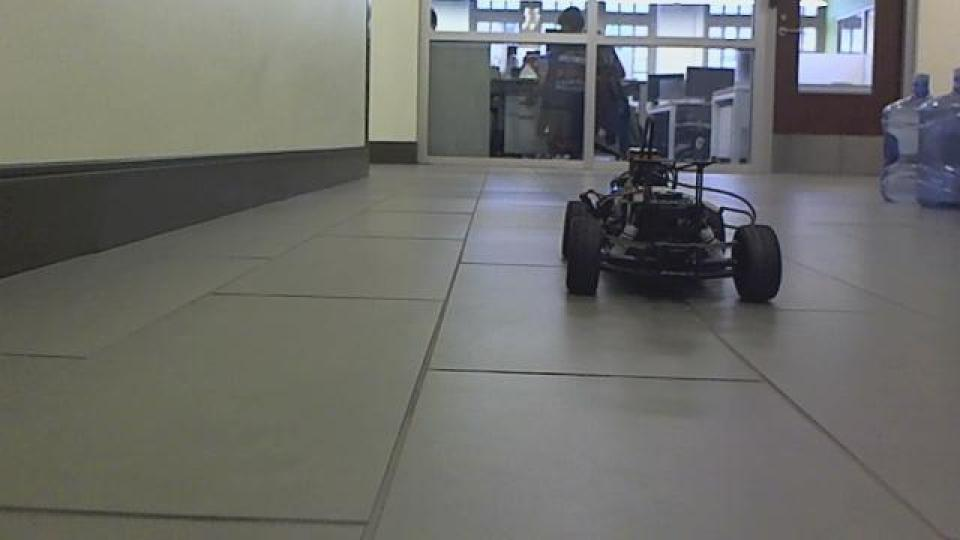car: (556, 126, 785, 306)
